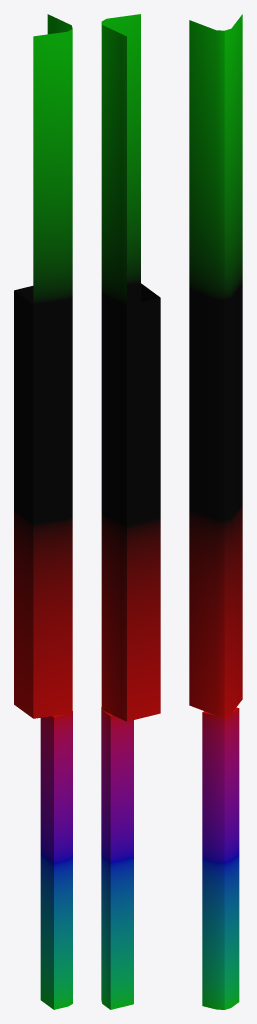
The model's file is WallV3ConnectorV1.fbx.
3 views of the same model, side by side, from view 1: azimuth 30°, elevation 25°; view 2: azimuth 210°, elevation 25°; view 3: azimuth 330°, elevation 25° (orthographic).
Parts seen in each view (by area): view 1: WallV3ConnectorV1; view 2: WallV3ConnectorV1; view 3: WallV3ConnectorV1.
Part boxes in pixels (box(x1,y1,x2,y2)): WallV3ConnectorV1: box(14, 14, 72, 1009); WallV3ConnectorV1: box(101, 14, 160, 1009); WallV3ConnectorV1: box(189, 14, 242, 1009).
Size of the model in its own units: 17.2 by 400 by 17.2.
